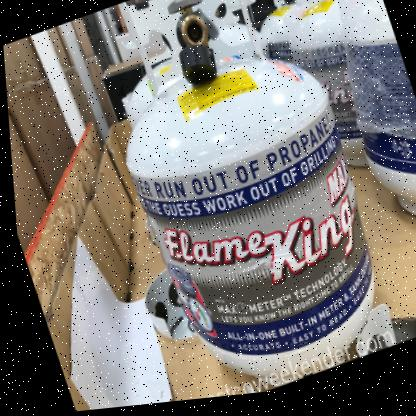gas-tank: (69, 0, 401, 409), (297, 0, 415, 280), (264, 0, 411, 204), (245, 0, 321, 82)
